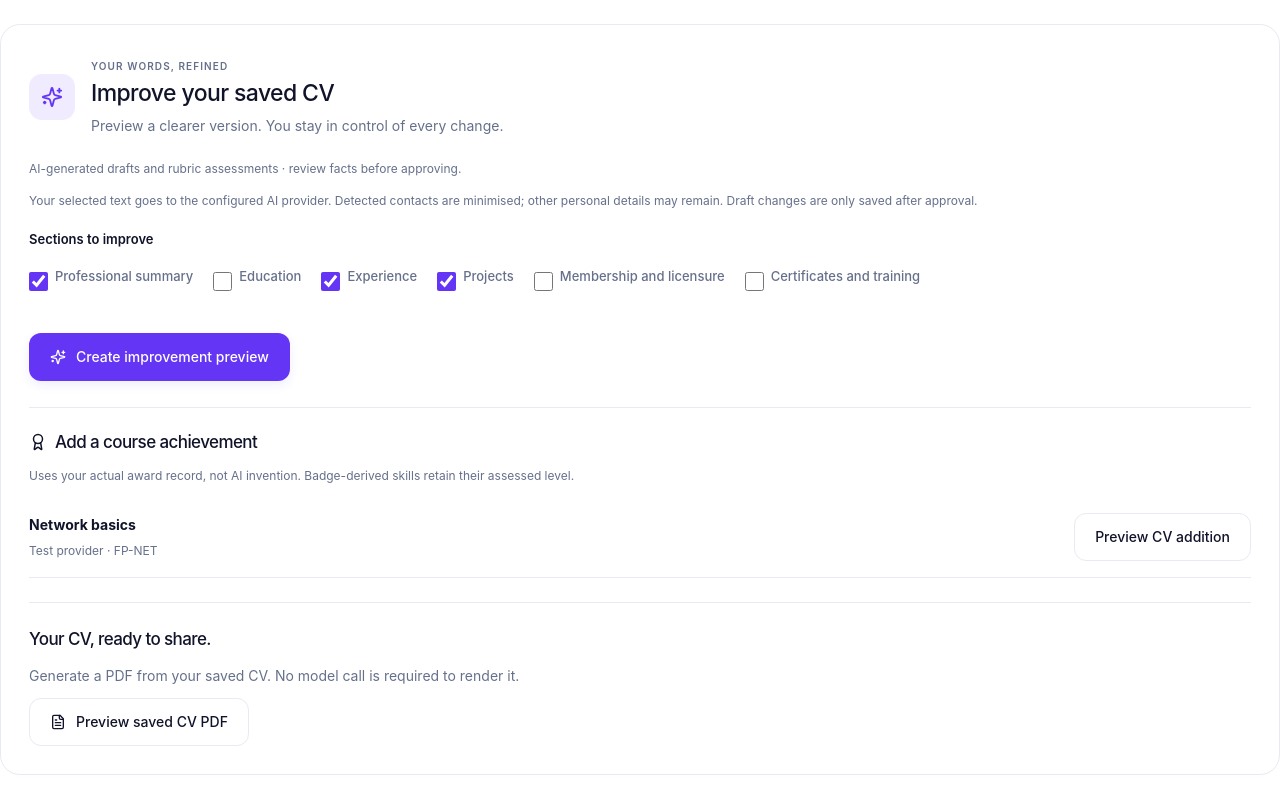
Test: leaves CV unchanged when the AI provider fails
Expected: the button "Preview CV addition" is shown, [1074, 513, 1251, 561]
Click the button "Create improvement preview": (159, 357) [29, 333, 290, 381]
(page scrolled)
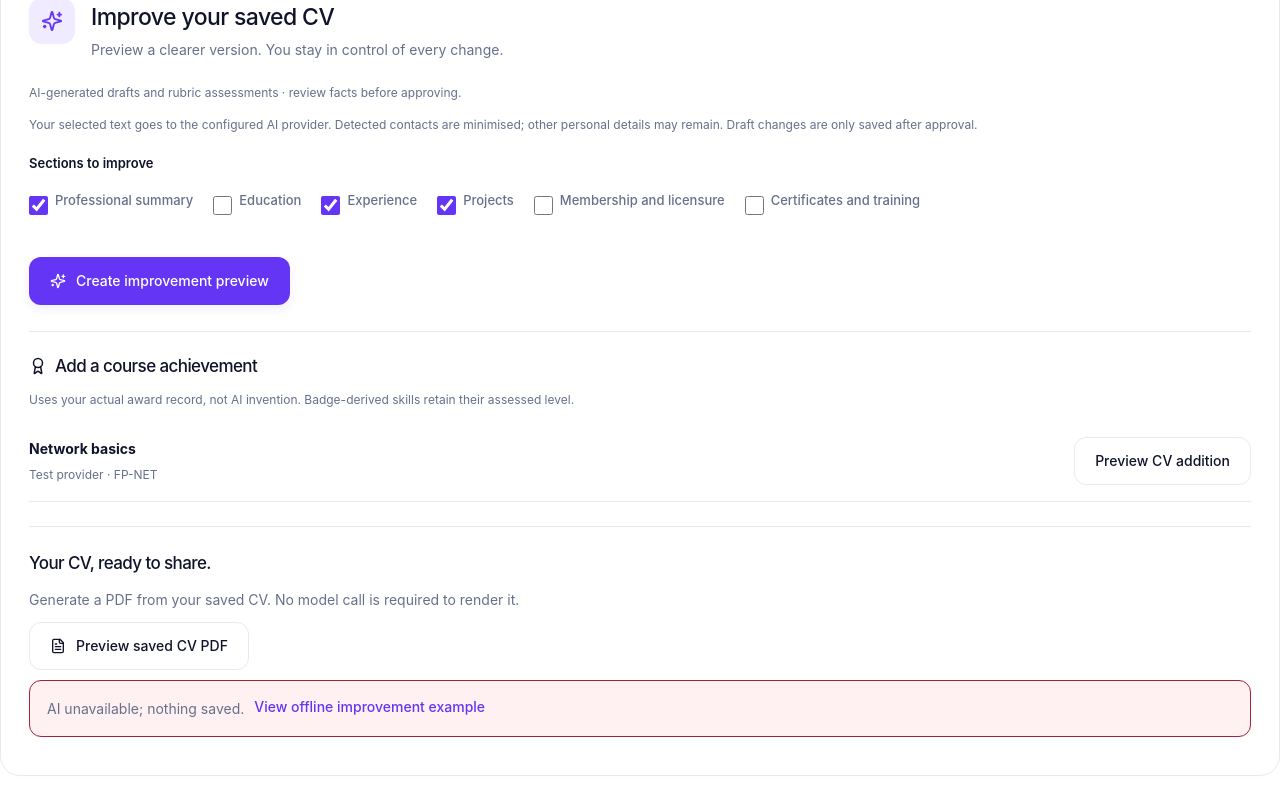
Result: the message shows "nothing saved" at [47, 700, 244, 717]
